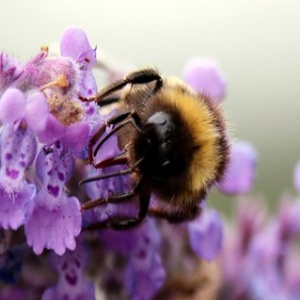bee: (77, 65, 239, 240)
